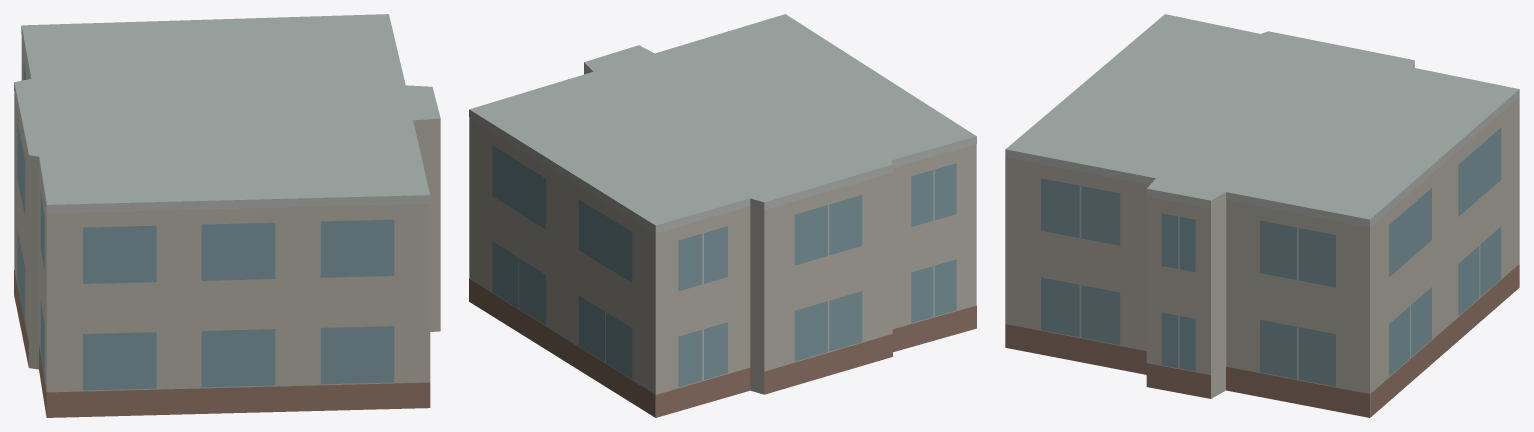
The model's file is survey-upis-32539408.glb.
3 renders of one model, left to right at view 1: azimuth 30°, elevation 25°; view 2: azimuth 150°, elevation 25°; view 3: azimuth 270°, elevation 25°, orthographic. The views are drawn at different scales.
Visible parts, largest first — view 1: survey-upis-32539408.tmp; view 2: survey-upis-32539408.tmp; view 3: survey-upis-32539408.tmp.
Part boxes in pixels (x1,y1,x2,y2): survey-upis-32539408.tmp: [14, 14, 440, 417]; survey-upis-32539408.tmp: [469, 14, 976, 417]; survey-upis-32539408.tmp: [1005, 14, 1519, 417].
Bounding box in the file's own units: 13.57 × 6.1 × 14.35.
